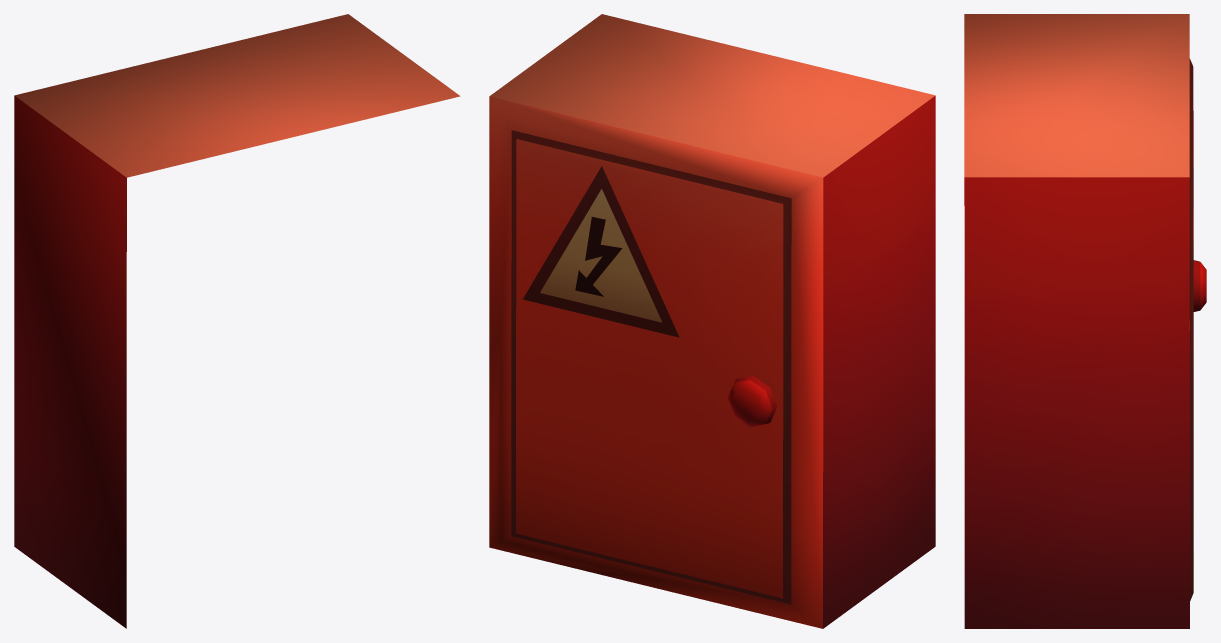
The model's file is 1.100_SanFrancisco_powerBox.glb.
The picture shows the model from 3 angles, left to right: view 1: azimuth 30°, elevation 25°; view 2: azimuth 150°, elevation 25°; view 3: azimuth 270°, elevation 25°; orthographic projection.
Visible parts, largest first — view 1: 1.100_SanFrancisco_powerBox; view 2: 1.100_SanFrancisco_powerBox; view 3: 1.100_SanFrancisco_powerBox.
Part boxes in pixels (x1,y1,x2,y2): 1.100_SanFrancisco_powerBox: (14,14,460,628); 1.100_SanFrancisco_powerBox: (489,14,935,628); 1.100_SanFrancisco_powerBox: (964,14,1206,628).
Bounding box in the file's own units: 6.5 × 8.39 × 4.08.
1 material, 1 textured.
